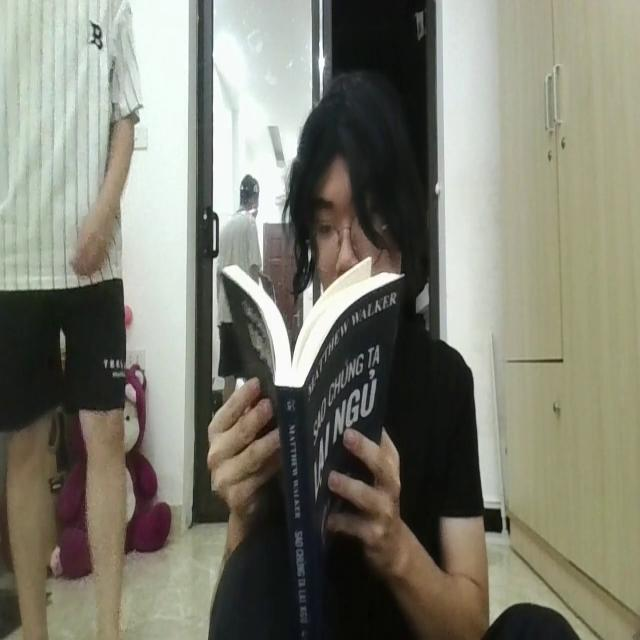book: (225, 252, 402, 640)
extra_person: (0, 2, 142, 640)
student: (199, 59, 490, 640)
